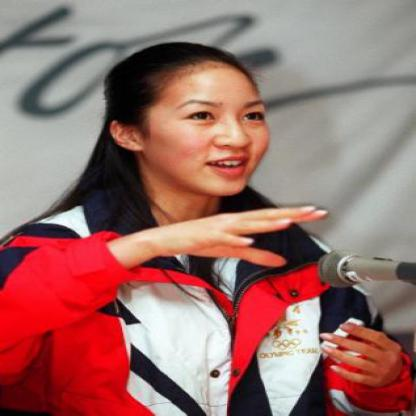face: (138, 50, 285, 200)
